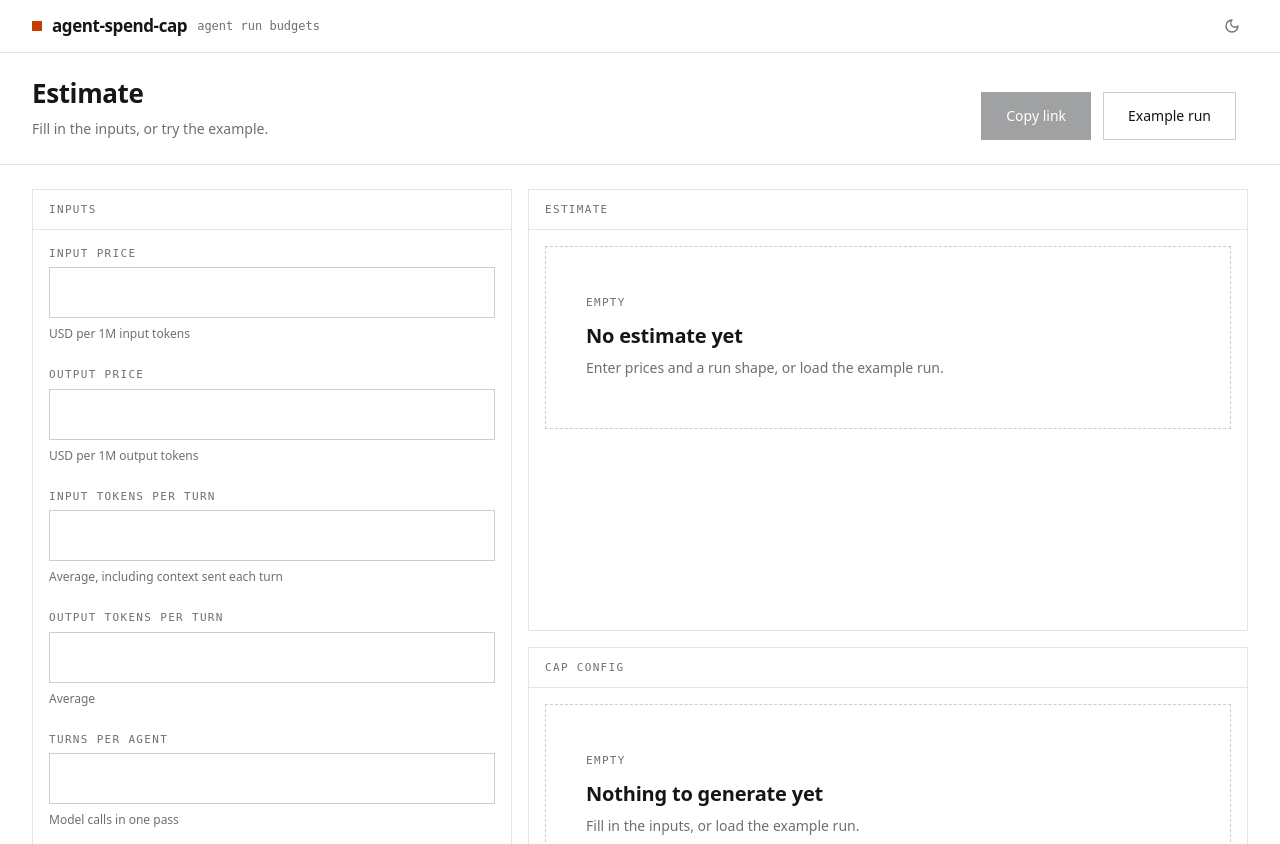
Test case: App › CH2: the meta line and Copy link follow the estimate
Check: the text "Fill in the inputs, or try the example." is shown, box [32,118,268,140]
Check: the button "Copy link" is disabled, box [981,92,1091,140]
Click the button "Example run". click: (1170, 116)
box: [1103,92,1236,140]
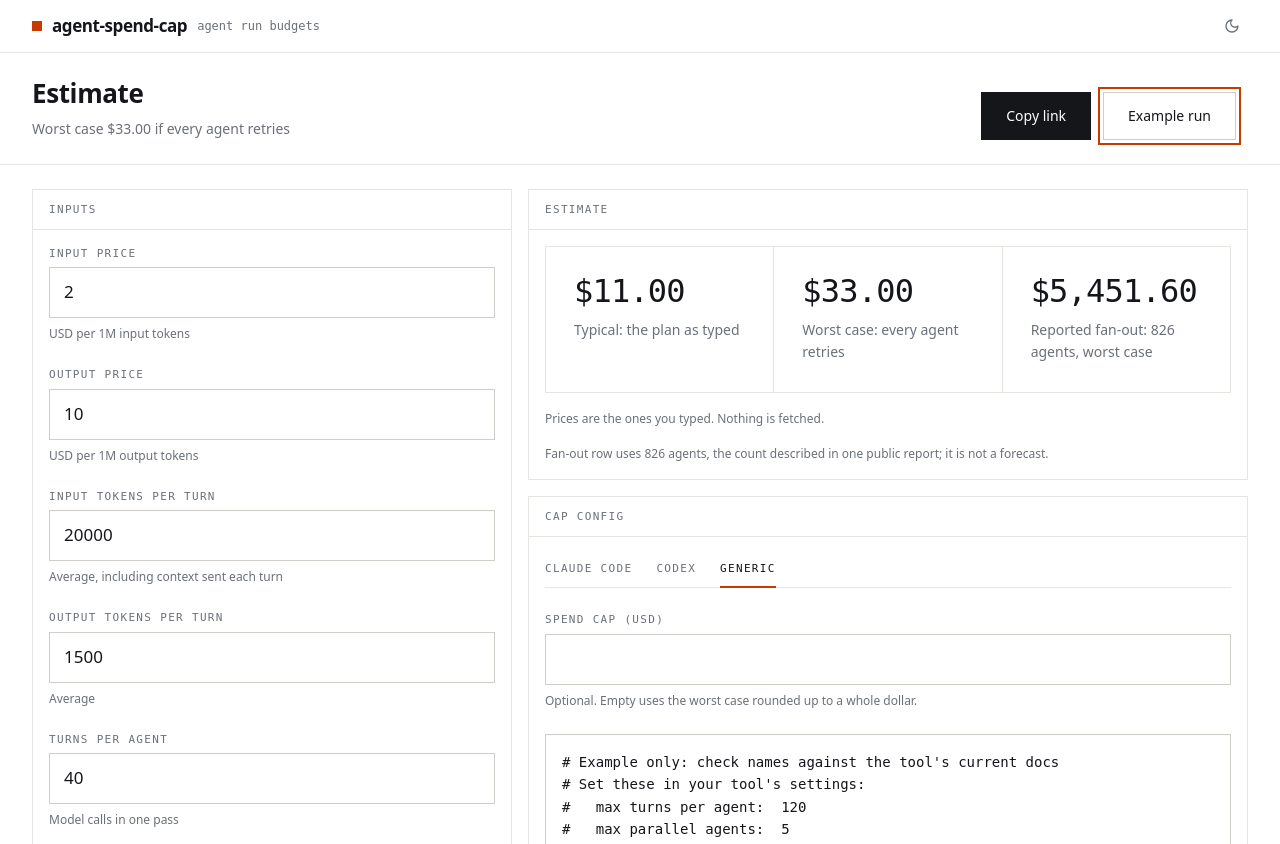
Check: the text "Worst case $33.00 if every agent retries" is shown, box [32,118,290,140]
Check: the text "Typical: the plan as typed" is shown, box [574,319,745,341]
Check: the text "Worst case: every agent retries" is shown, box [802,319,974,364]
